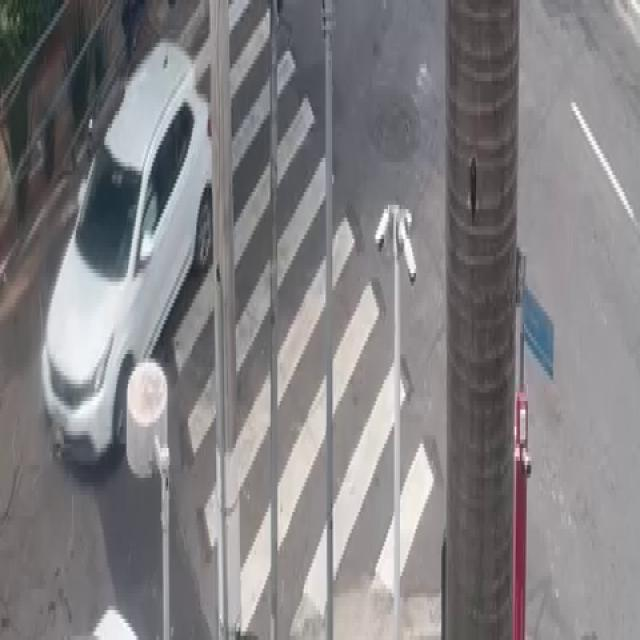car: (39, 43, 222, 460)
